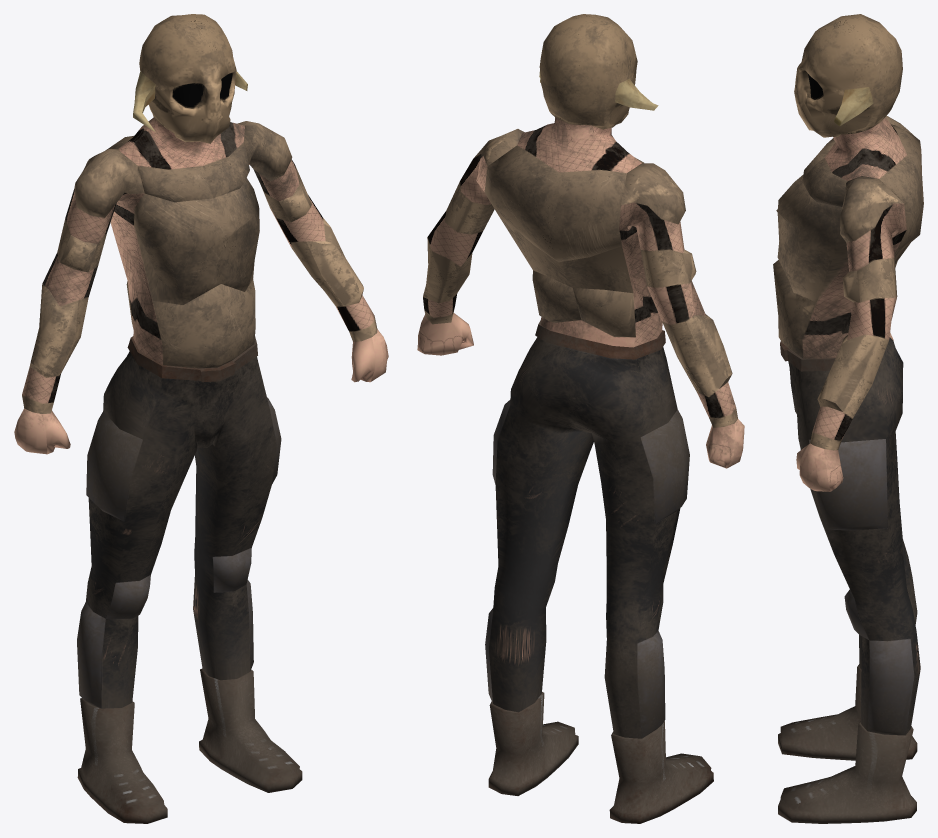
File: Anim_idle_npc1.0016.obj
3 renders of one model, left to right at view 1: azimuth 30°, elevation 25°; view 2: azimuth 150°, elevation 25°; view 3: azimuth 270°, elevation 25°, orthographic.
Parts seen in each view (by area): view 1: NPC2; view 2: NPC2; view 3: NPC2.
Boxes of the visible parts, x1,y1,x2,y2 form: NPC2: [14, 14, 388, 823]; NPC2: [417, 14, 744, 823]; NPC2: [773, 14, 923, 823].
Bounding box in the file's own units: 4.59 × 9.66 × 1.73.
